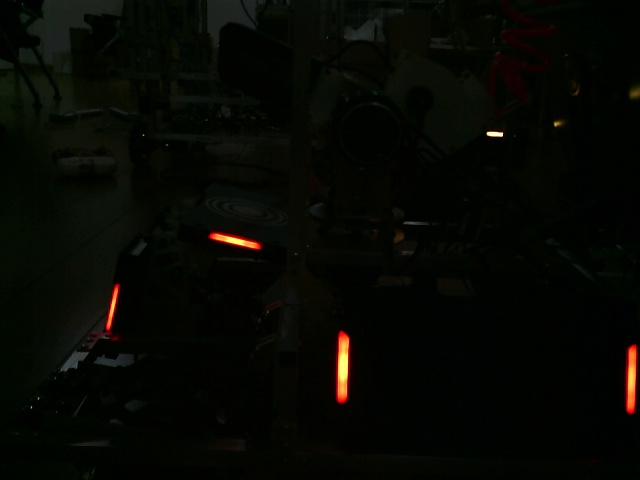lamp: (332, 328, 354, 405), (624, 342, 638, 416), (106, 282, 121, 334)
